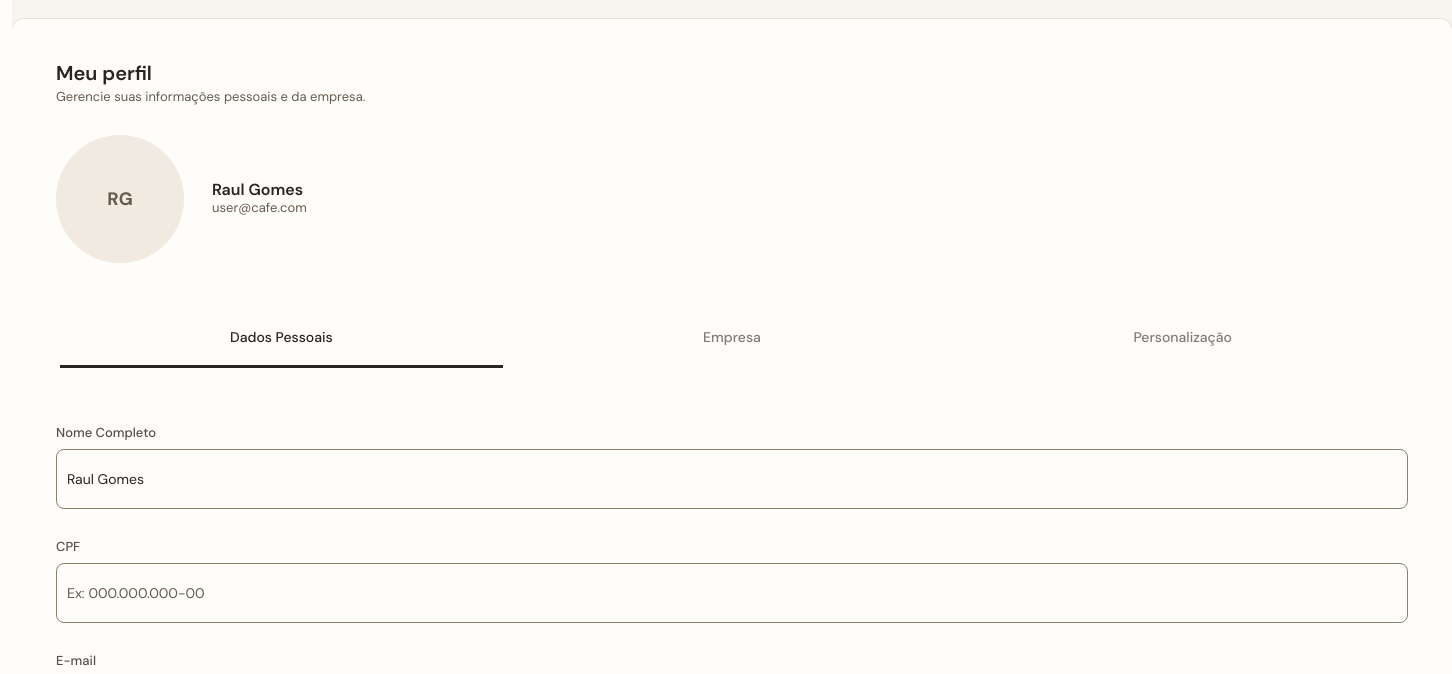
Scenario: PerfilPage › switches to Empresa tab and shows all company fields
Expected: the field showing "Raul Gomes" below "Nome Completo" is shown, [56,449,1408,509]
// Switch to company tab (abas Empresa e Contato foram unificadas)
Click the tab "Empresa" at (732, 337), box [510,311,954,364]
(page scrolled)
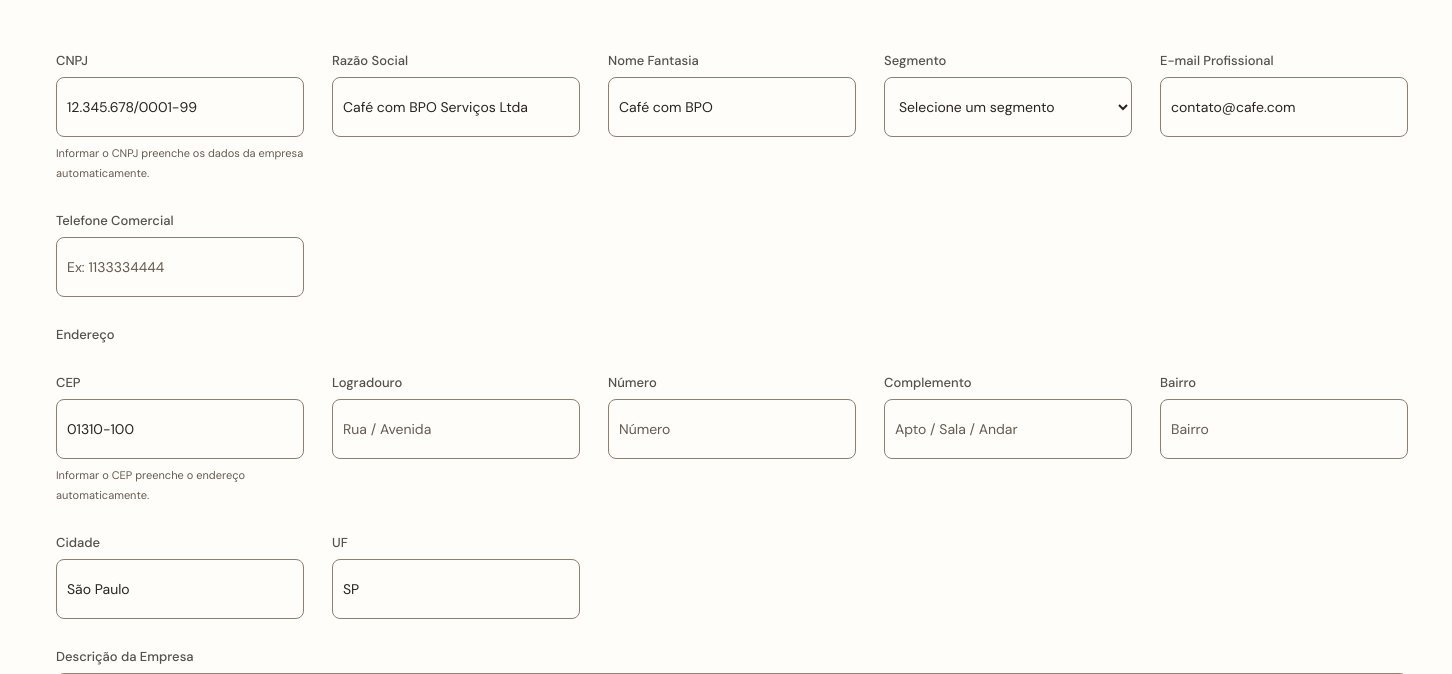
Now the field showing "Café com BPO Serviços Ltda" below "Razão Social" is shown, box [332,77,580,137]
Now the field showing "Café com BPO" below "Nome Fantasia" is shown, box [608,77,856,137]
Now the 1st field showing "12.345.678/0001-99" is shown, box [56,77,304,137]
